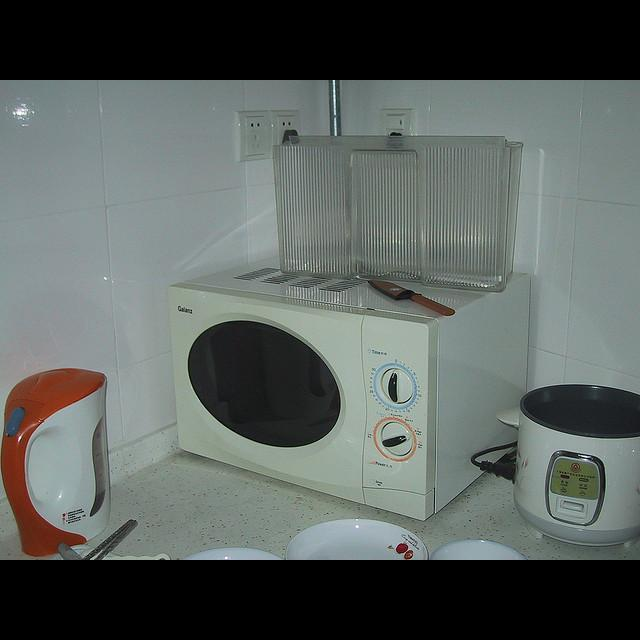Microwave: (167, 252, 532, 519)
